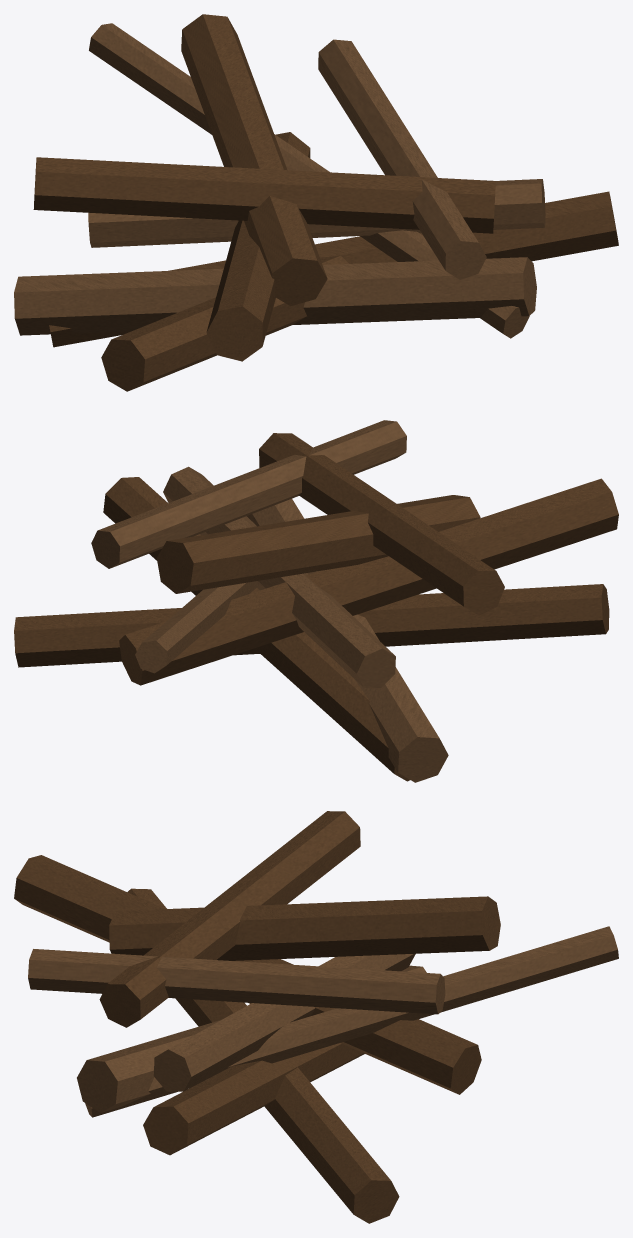
File: firewood.glb
3 renders of one model, top to bottom at view 1: azimuth 30°, elevation 25°; view 2: azimuth 150°, elevation 25°; view 3: azimuth 270°, elevation 25°, orthographic. The views are drawn at different scales.
Parts seen in each view (by area): view 1: Cylinder; view 2: Cylinder; view 3: Cylinder.
Part boxes in pixels (x1,y1,x2,y2): Cylinder: (14, 14, 618, 391); Cylinder: (14, 420, 618, 782); Cylinder: (14, 811, 618, 1223).
Size of the model in its own units: 0.6621 by 0.2936 by 0.7065.
1 material, 1 textured.
